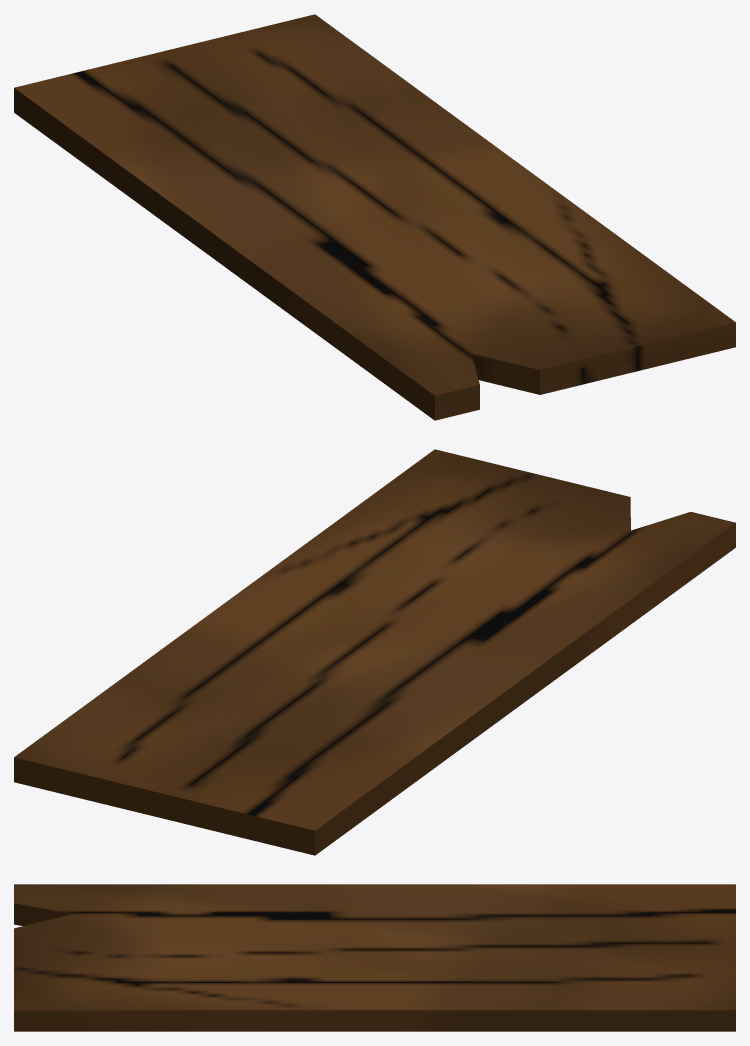
Rendered from WoodBoard.glb.
The picture shows the model from 3 angles, top to bottom: view 1: azimuth 30°, elevation 25°; view 2: azimuth 150°, elevation 25°; view 3: azimuth 270°, elevation 25°; orthographic projection. The views are drawn at different scales.
Parts seen in each view (by area): view 1: Cube; view 2: Cube; view 3: Cube.
Part boxes in pixels (x1,y1,x2,y2): Cube: [14, 14, 735, 420]; Cube: [14, 449, 735, 855]; Cube: [14, 884, 735, 1031].
Size of the model in its own units: 1.9 by 0.15 by 4.6.
Materials: 1 (1 with a texture image).
